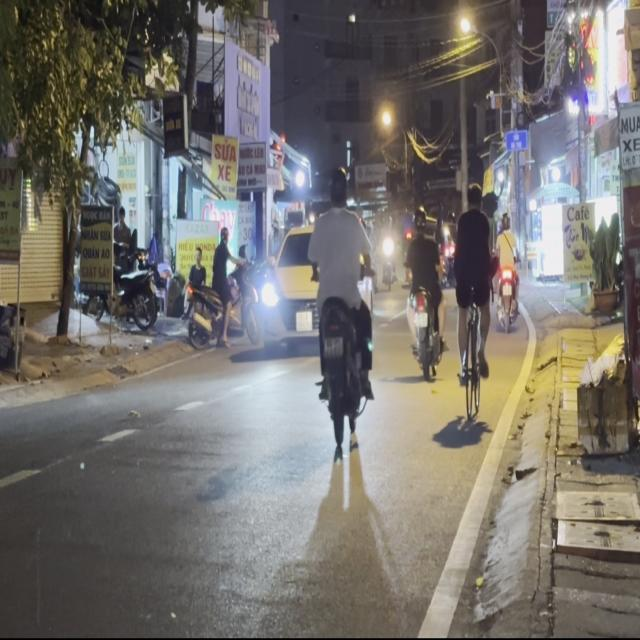helmet: (328, 166, 350, 207)
licenseplate: (303, 160, 392, 464)
nohelmet: (323, 337, 344, 358)
